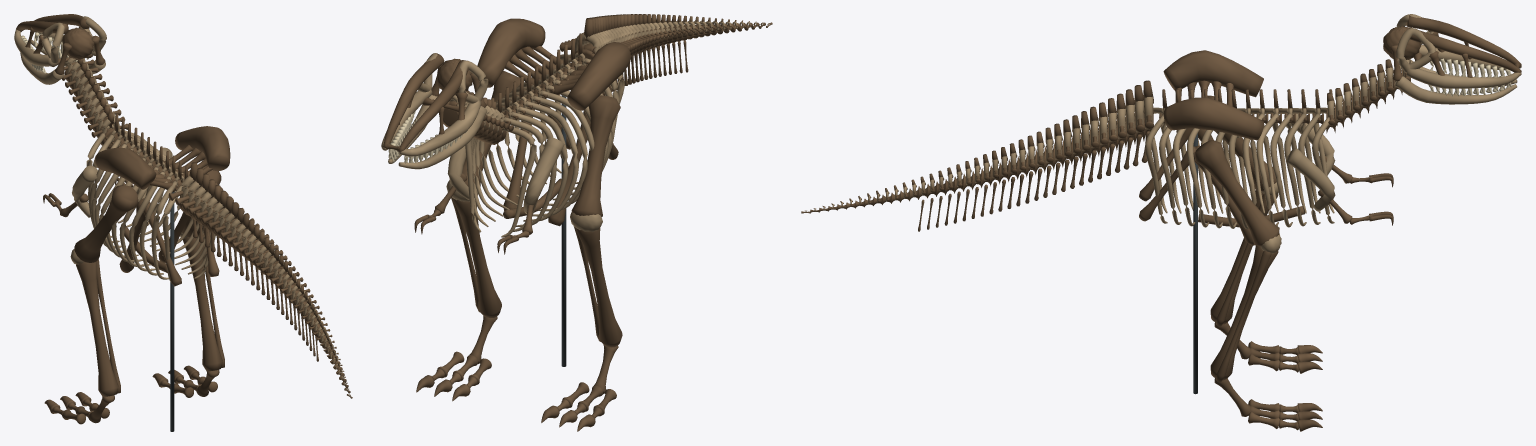
The picture shows the model from 3 angles, left to right: view 1: azimuth 30°, elevation 25°; view 2: azimuth 150°, elevation 25°; view 3: azimuth 270°, elevation 25°; orthographic projection. The views are drawn at different scales.
Visible parts, largest first — view 1: D02_SPEC_Fossil umber_export, D02_SPEC_Fossil ridge_export, D02_SPEC_Mount steel_export, D02_SPEC_Ivory_export; view 2: D02_SPEC_Fossil umber_export, D02_SPEC_Fossil ridge_export, D02_SPEC_Mount steel_export, D02_SPEC_Ivory_export; view 3: D02_SPEC_Fossil umber_export, D02_SPEC_Fossil ridge_export, D02_SPEC_Ivory_export, D02_SPEC_Mount steel_export.
Part boxes in pixels (bbox=[...]): D02_SPEC_Fossil umber_export: bbox=[16, 14, 352, 424]; D02_SPEC_Fossil ridge_export: bbox=[14, 16, 350, 396]; D02_SPEC_Mount steel_export: bbox=[170, 192, 174, 431]; D02_SPEC_Ivory_export: bbox=[21, 32, 88, 73]; D02_SPEC_Fossil umber_export: bbox=[383, 14, 772, 431]; D02_SPEC_Fossil ridge_export: bbox=[381, 21, 770, 237]; D02_SPEC_Mount steel_export: bbox=[561, 95, 566, 366]; D02_SPEC_Ivory_export: bbox=[388, 111, 466, 163]; D02_SPEC_Fossil umber_export: bbox=[801, 15, 1521, 431]; D02_SPEC_Fossil ridge_export: bbox=[806, 14, 1521, 253]; D02_SPEC_Ivory_export: bbox=[1428, 58, 1511, 96]; D02_SPEC_Mount steel_export: bbox=[1193, 133, 1197, 394].
Size of the model in its own units: 2.21 by 4.8 by 8.42.
